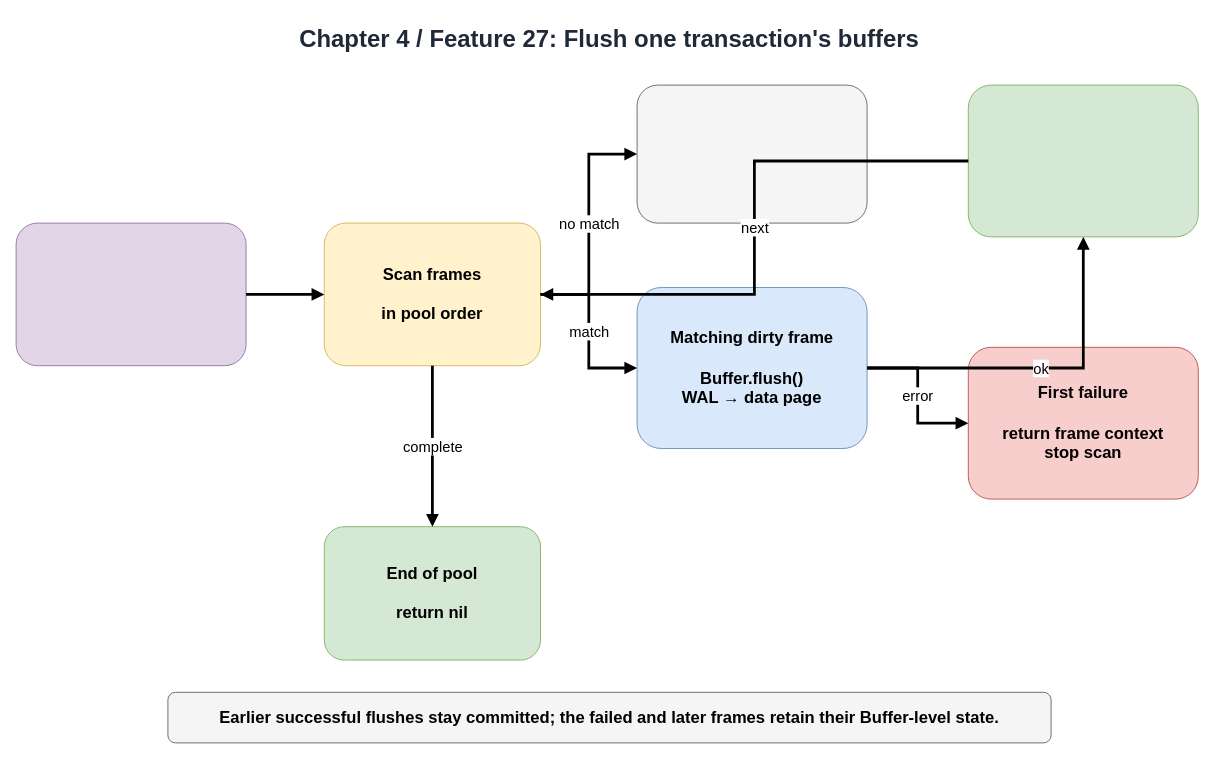
The diagram is 1214 pixels wide and 759 high, and some of its shapes have lost their labels. The shapes that lost their labels are listed below. From the top down, each one's box as (x1, y1, x2, y2) in pixels, then its label:
(636, 84, 867, 223): Clean or other tx skip without write
(967, 84, 1198, 237): Success frame becomes clean continue scan
(15, 222, 246, 366): FlushAll(tx) lock Manager mutex
